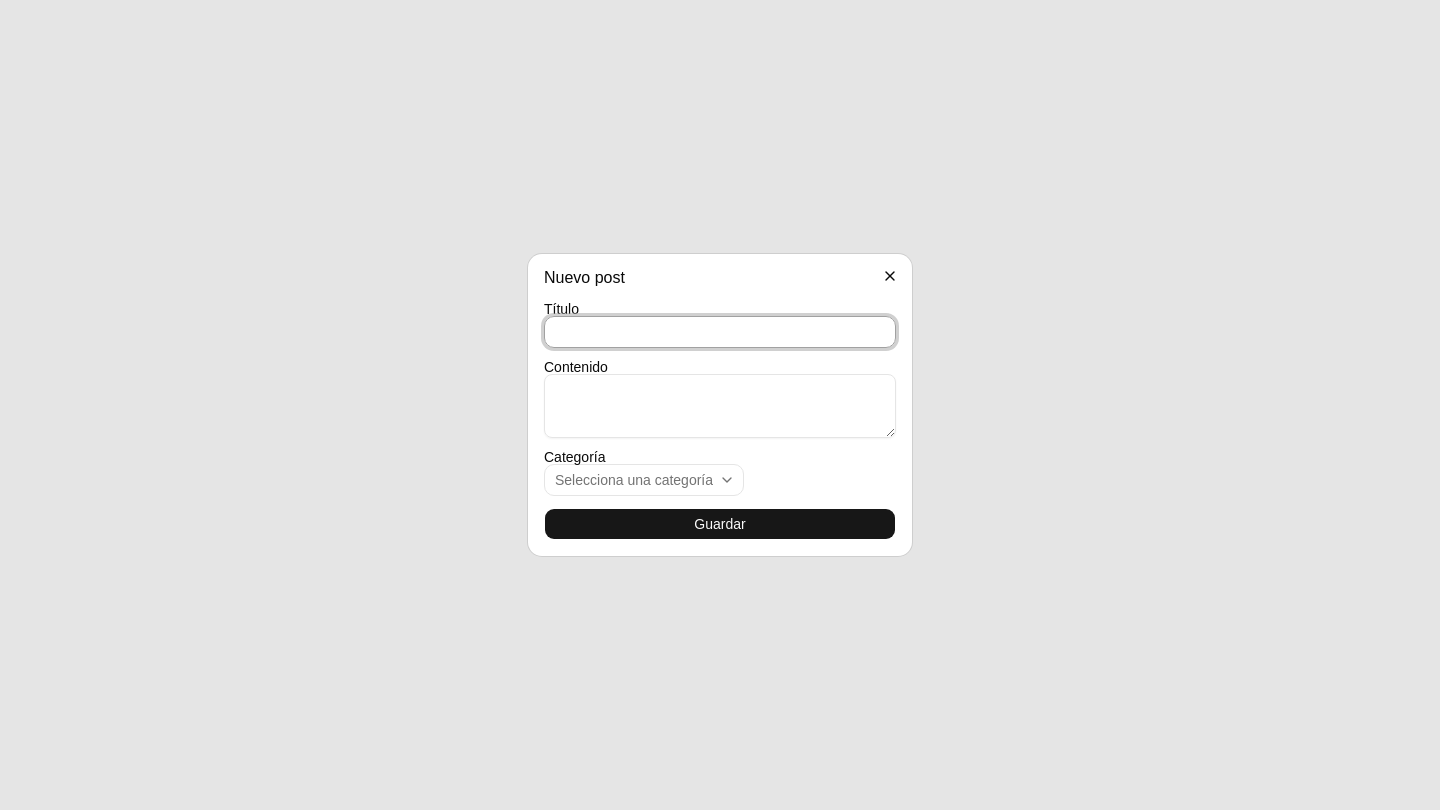
Test case: PostFormDialog — creación › should show a validation error when no category is selected
Type "Nuevo post" into the field labelled "Título" at (720, 332), box [544,316,896,348]
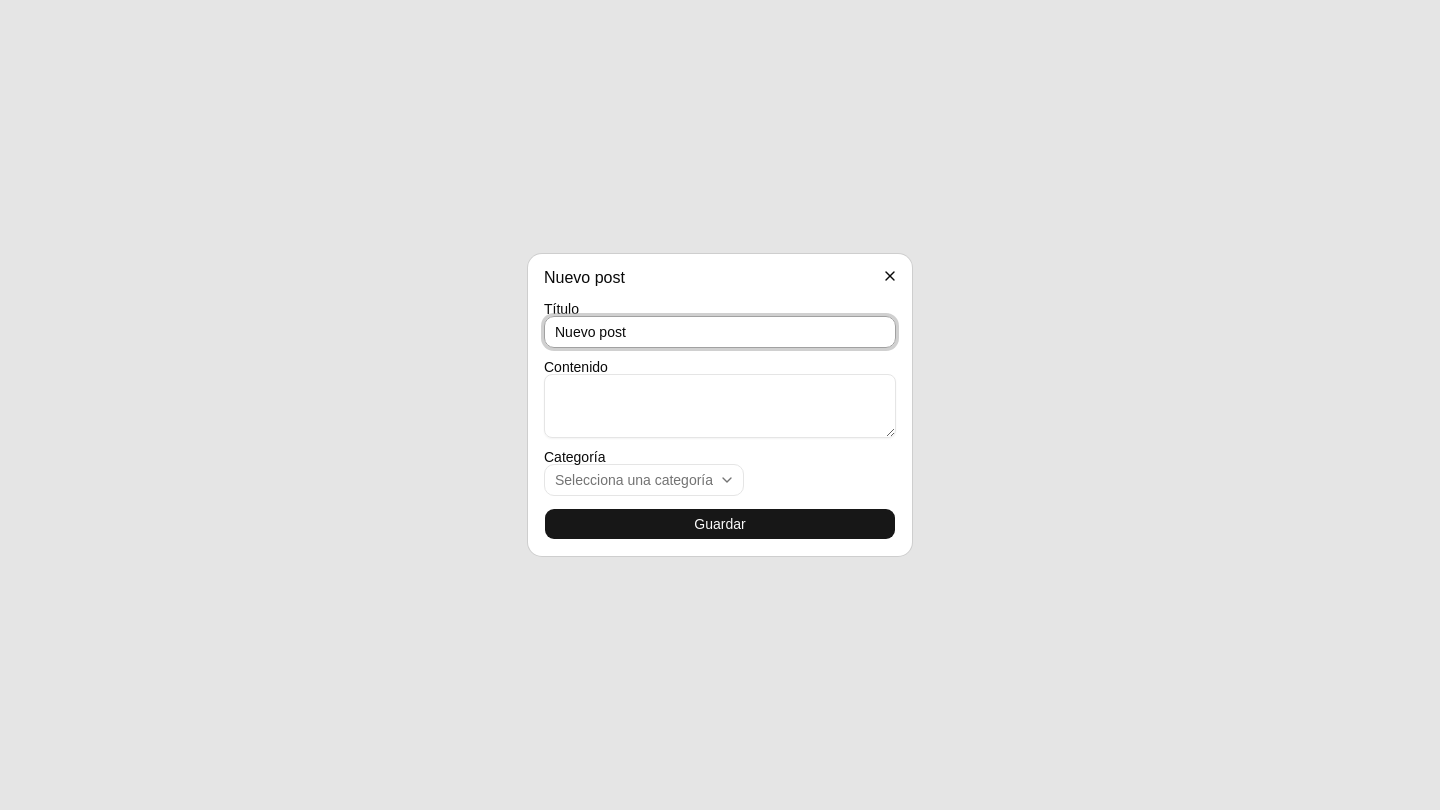
Type "Contenido de prueba" into the text box labelled "Contenido" at (720, 406), box [544,374,896,438]
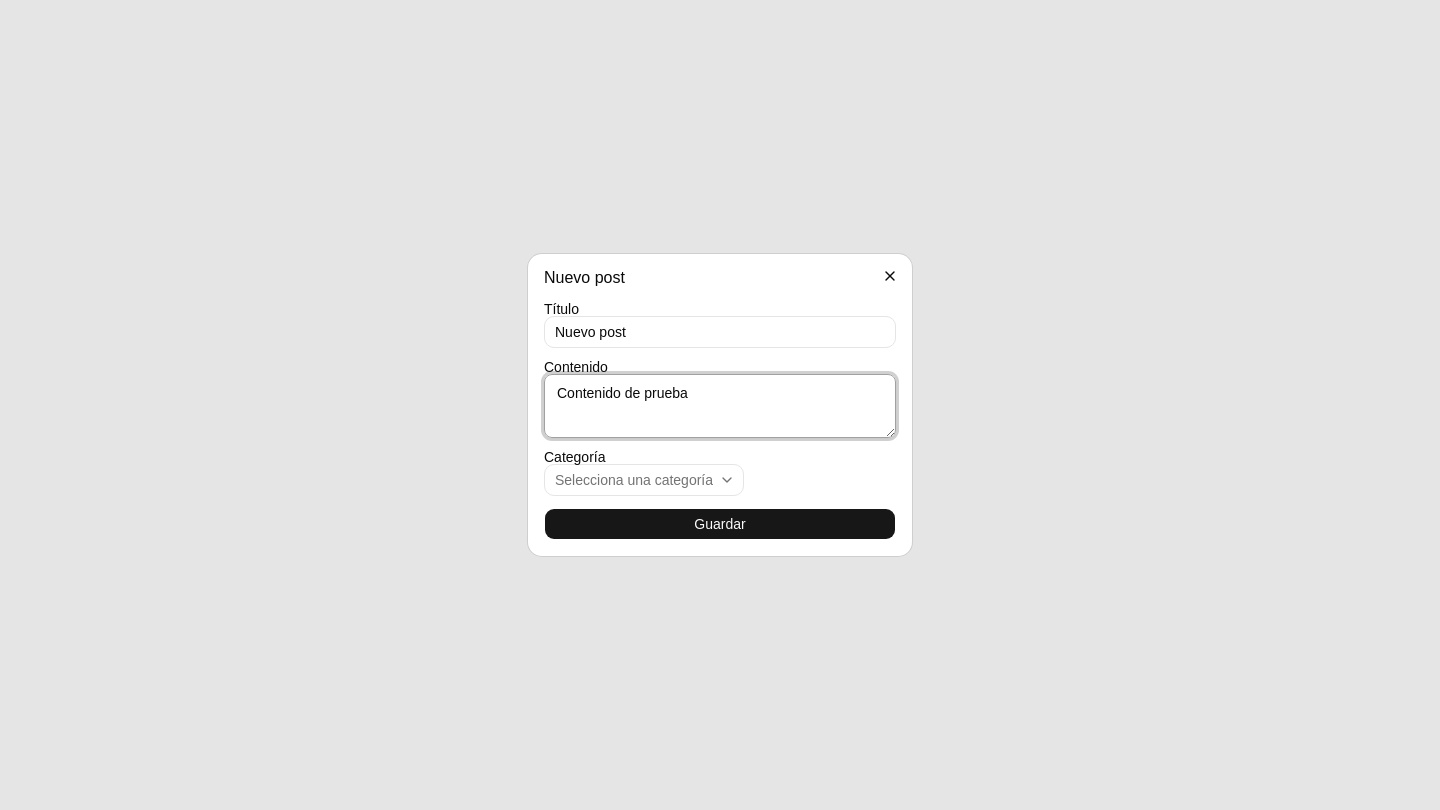
Click the button "Guardar" at (720, 524), box [544,508,896,540]
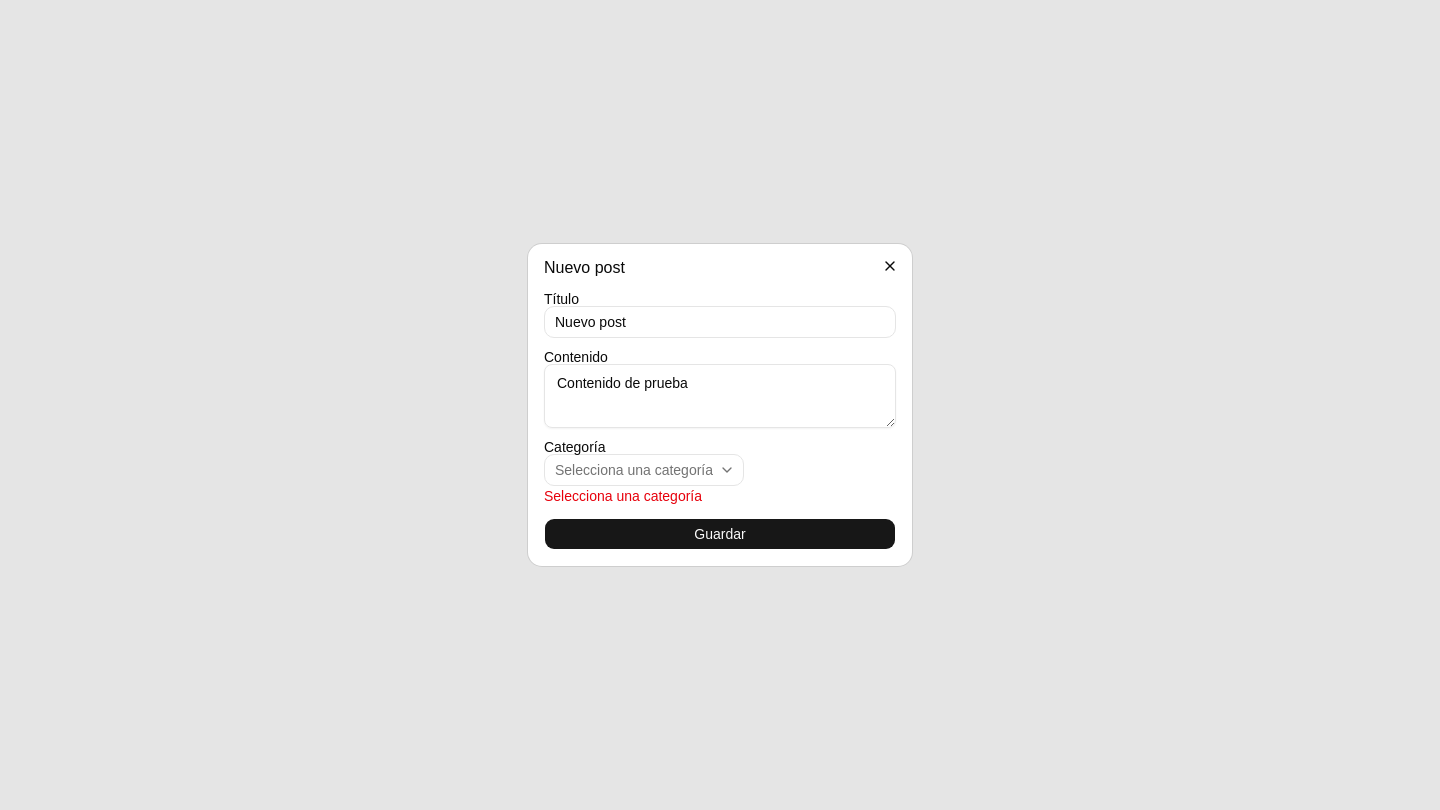
Check: the 2nd text "Selecciona una categoría" is shown, box [544,488,702,504]
